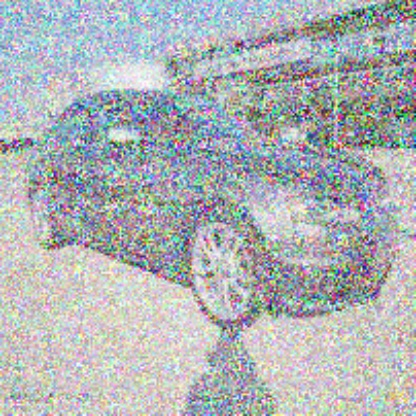Vehicle: (24, 89, 402, 336)
